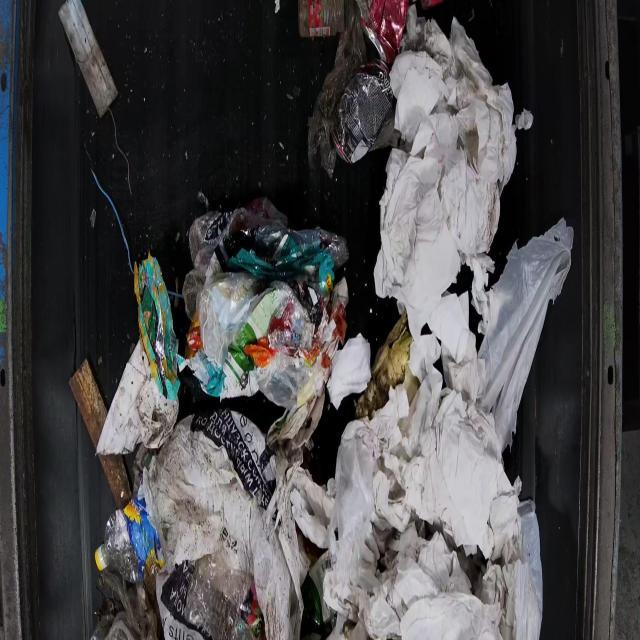cups: (329, 60, 394, 164)
other-trash: (85, 1, 573, 638)
